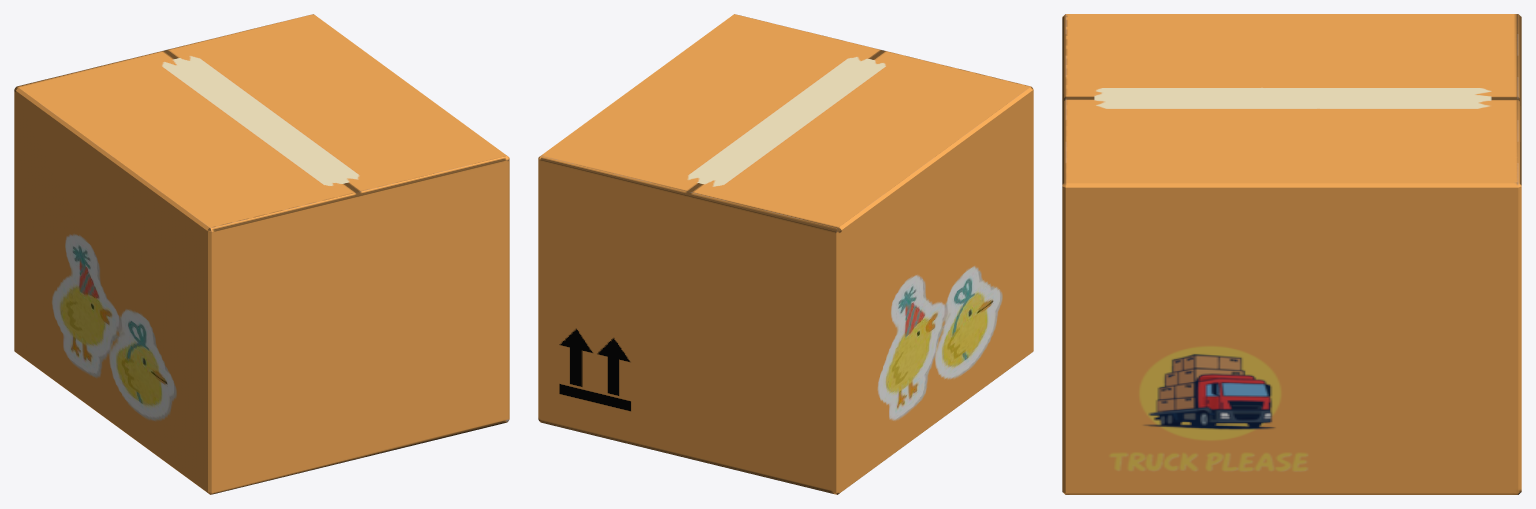
Rendered from basicBoxRyul4.fbx.
The picture shows the model from 3 angles, left to right: view 1: azimuth 30°, elevation 25°; view 2: azimuth 150°, elevation 25°; view 3: azimuth 270°, elevation 25°; orthographic projection. The views are drawn at different scales.
Parts seen in each view (by area): view 1: BasicBox; view 2: BasicBox; view 3: BasicBox.
Boxes of the visible parts, <box> form: BasicBox: <box>14,14,509,494</box>; BasicBox: <box>538,14,1033,494</box>; BasicBox: <box>1062,14,1521,494</box>.
Size of the model in its own units: 124 by 105 by 140.
Materials: 1 (1 with a texture image).
